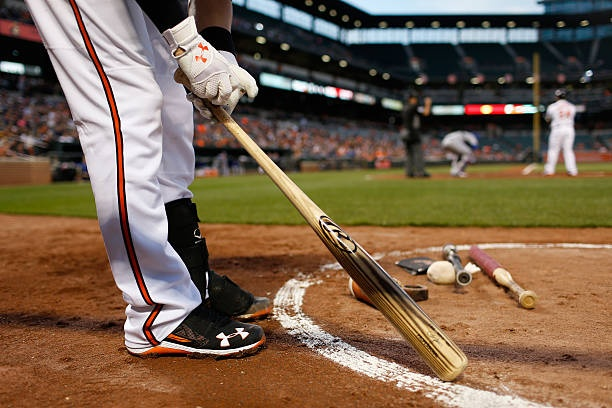bita: (207, 97, 463, 382)
